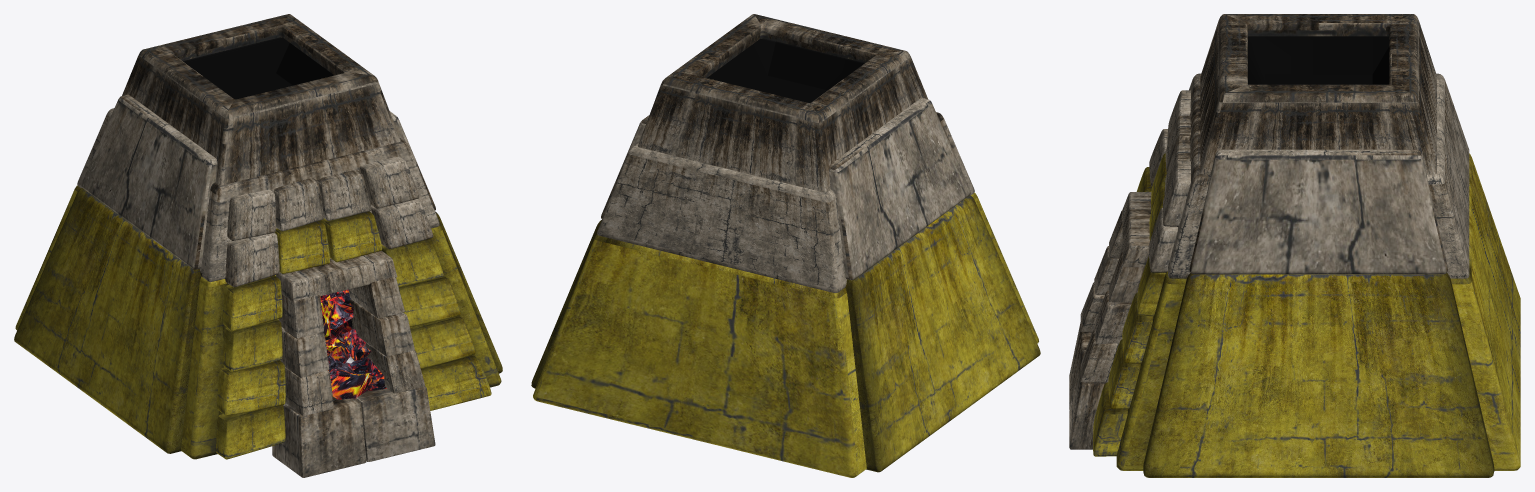
The model's file is static.fbx.
3 views of the same model, side by side, from view 1: azimuth 30°, elevation 25°; view 2: azimuth 150°, elevation 25°; view 3: azimuth 270°, elevation 25° (orthographic). The views are drawn at different scales.
Visible parts, largest first — view 1: Boole, Cube_1_4, Boole_1, Cube_1_Instance_cuts, Cube_1_Instance_cuts_1, Cube_1, Plane, Cube, Cube_8, Subdivision_Surface_3, Subdivision_Surface, Subdivision_Surface_2 (+24 smaller); view 2: Cube_1_Instance_cuts, Boole, Cube_1_4, Cube_1_Instance_cuts_1, Boole_1, Plane; view 3: Boole, Boole_1, Cube_1_4, Cube_1_Instance_cuts, Cube_1_Instance_cuts_1, Plane, Cube_8, Cube, Subdivision_Surface_2, Subdivision_Surface_4, Subdivision_Surface_6, Subdivision_Surface_16 (+12 smaller).
Boxes of the visible parts, <box> form: Boole: <box>14,188,502,453</box>; Cube_1_4: <box>122,14,400,185</box>; Boole_1: <box>81,94,435,269</box>; Cube_1_Instance_cuts: <box>15,185,501,459</box>; Cube_1_Instance_cuts_1: <box>77,108,439,281</box>; Cube_1: <box>272,397,366,477</box>; Plane: <box>182,37,334,99</box>; Cube: <box>356,386,435,461</box>; Cube_8: <box>276,250,397,302</box>; Subdivision_Surface_3: <box>217,360,285,415</box>; Subdivision_Surface: <box>216,405,285,459</box>; Subdivision_Surface_2: <box>421,355,491,410</box>; Cube_1_Instance_cuts: <box>533,192,1038,477</box>; Boole: <box>531,195,1040,472</box>; Cube_1_4: <box>638,14,927,192</box>; Cube_1_Instance_cuts_1: <box>597,112,974,292</box>; Boole_1: <box>601,97,970,280</box>; Plane: <box>707,38,864,102</box>; Boole: <box>1143,273,1494,477</box>; Boole_1: <box>1189,149,1447,274</box>; Cube_1_4: <box>1200,14,1436,174</box>; Cube_1_Instance_cuts: <box>1116,153,1520,470</box>; Cube_1_Instance_cuts_1: <box>1168,73,1469,278</box>; Plane: <box>1248,36,1389,84</box>; Cube_8: <box>1122,192,1151,267</box>; Cube: <box>1069,350,1106,449</box>; Subdivision_Surface_2: <box>1093,382,1127,456</box>; Subdivision_Surface_4: <box>1108,339,1140,409</box>; Subdivision_Surface_6: <box>1122,292,1153,363</box>; Subdivision_Surface_16: <box>1163,161,1190,226</box>.
Bounding box in the file's own units: 367 × 333 × 379.
4 materials, 4 textured.
